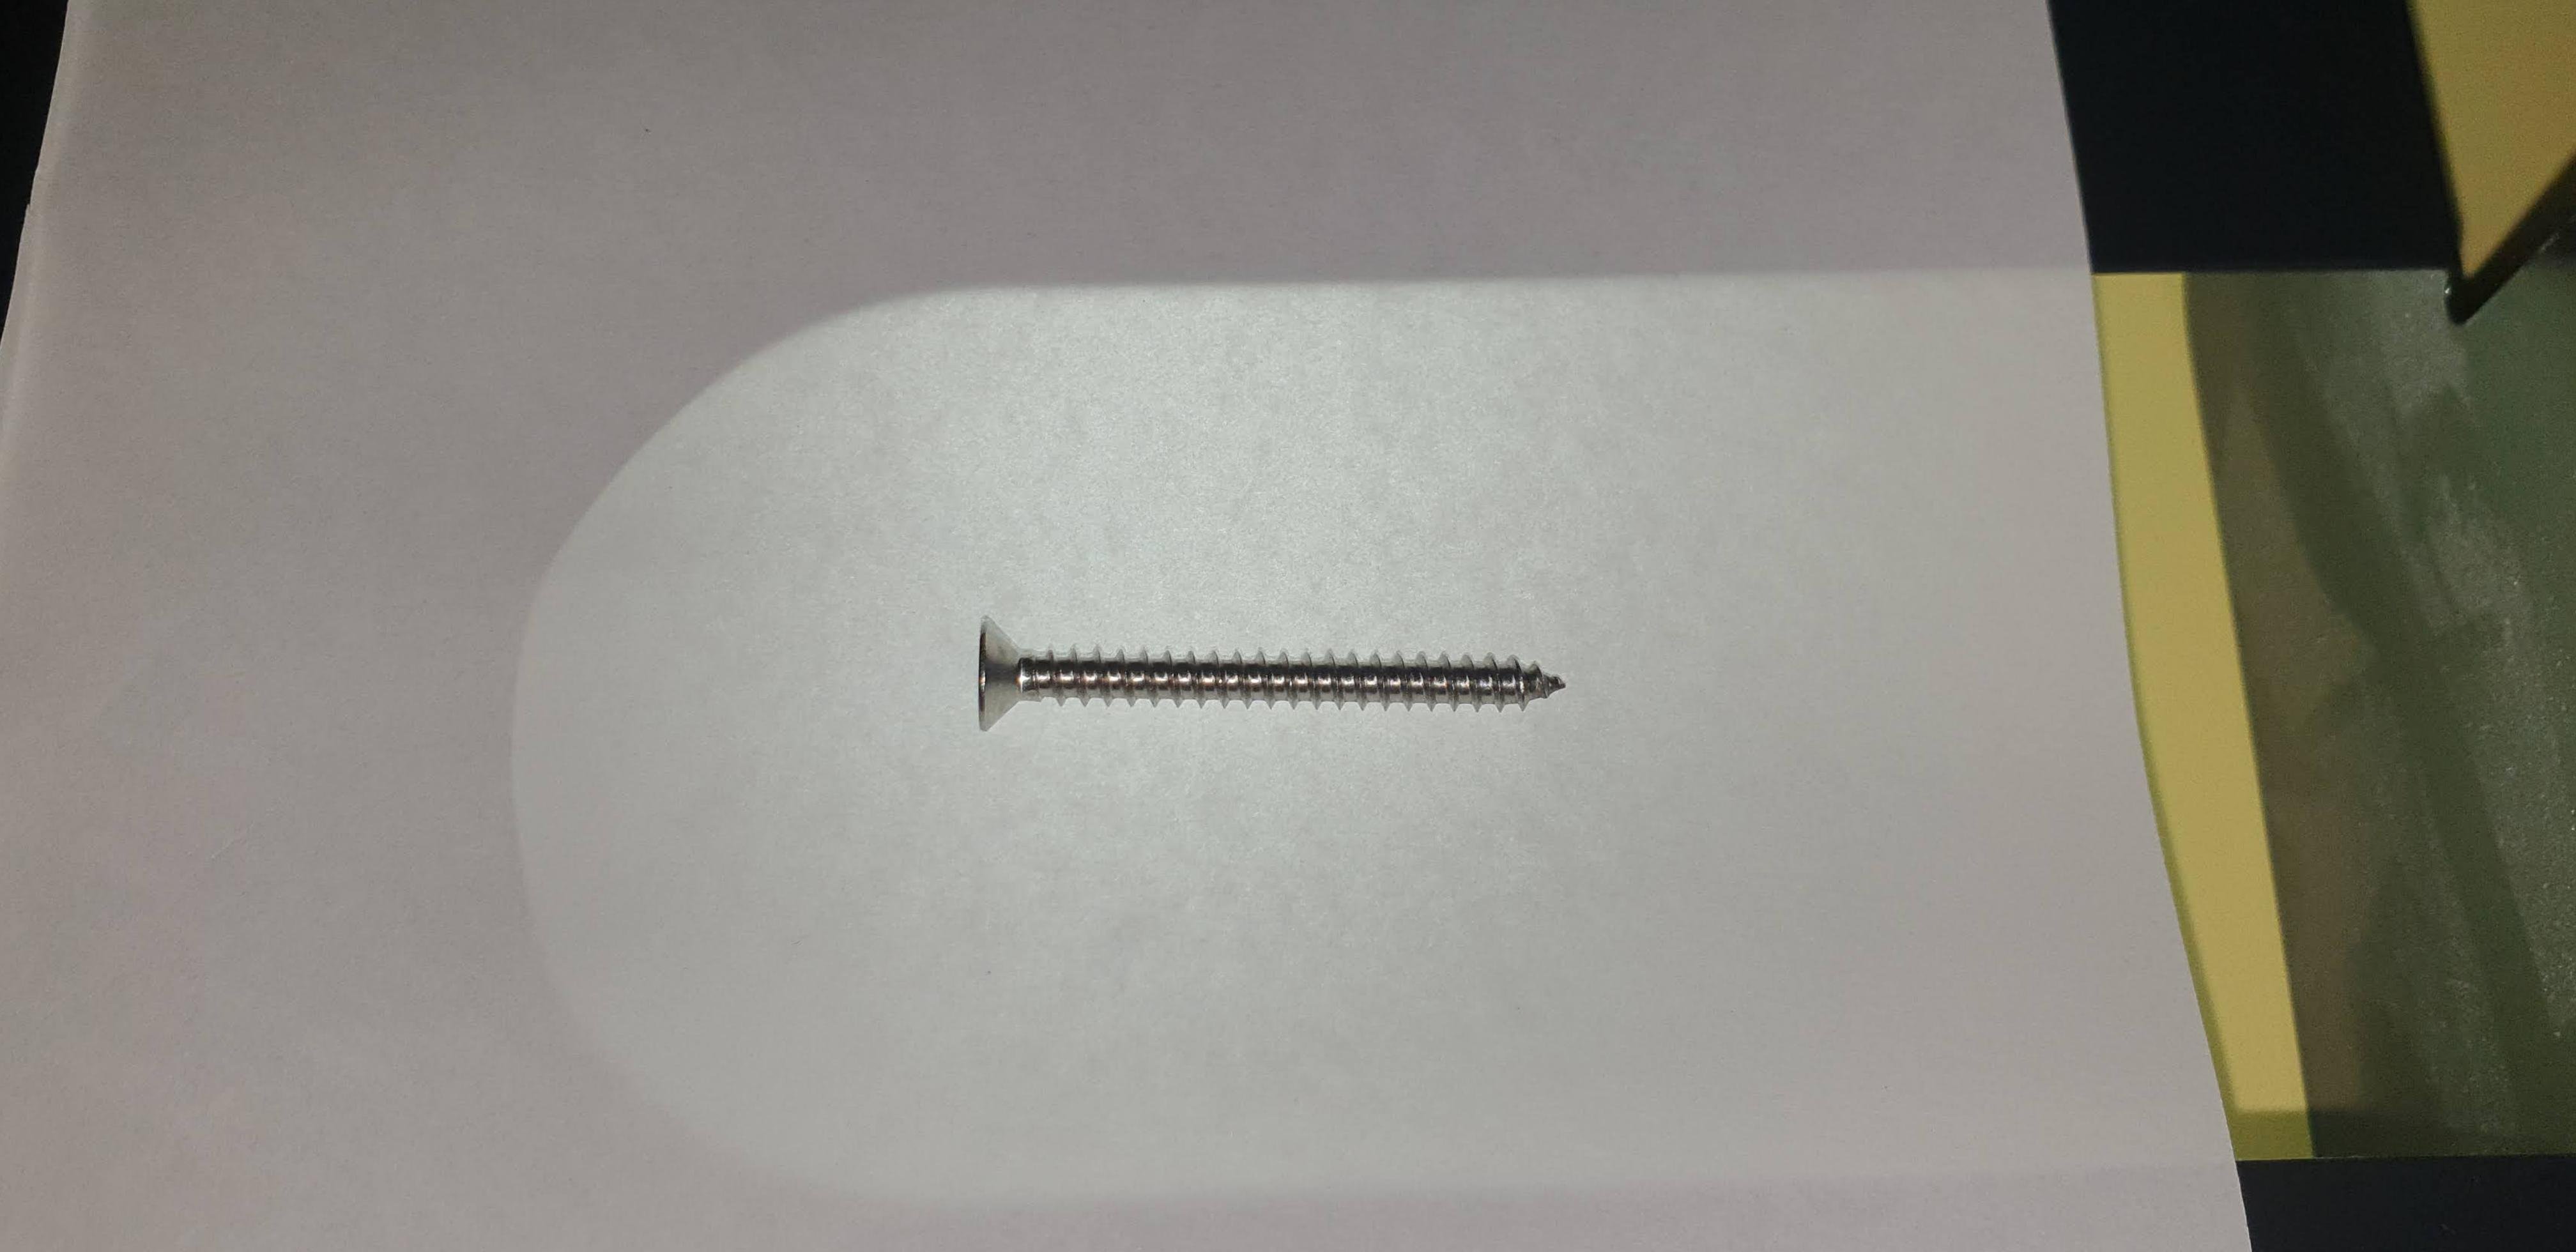fastener: (887, 554, 1695, 813)
